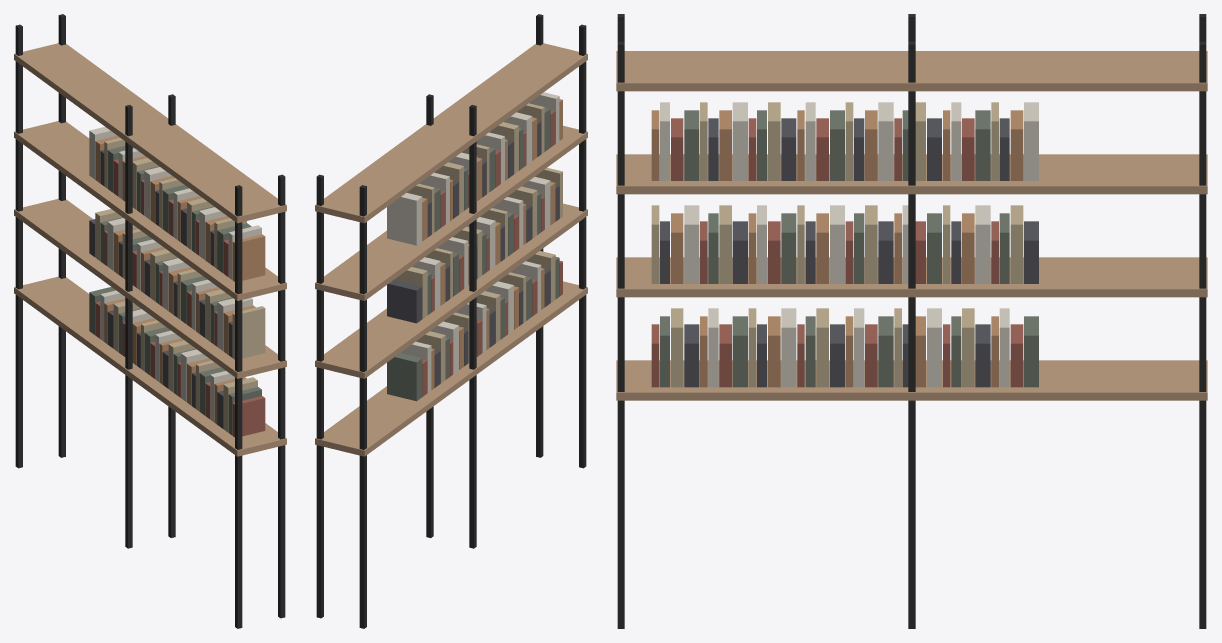
The model's file is SM_Shelving_Study.fbx.
The picture shows the model from 3 angles, left to right: view 1: azimuth 30°, elevation 25°; view 2: azimuth 150°, elevation 25°; view 3: azimuth 270°, elevation 25°; orthographic projection. The views are drawn at different scales.
Parts seen in each view (by area): view 1: SM_Shelving_Study; view 2: SM_Shelving_Study; view 3: SM_Shelving_Study.
Boxes of the visible parts, box(x1,y1,x2,y2) form: SM_Shelving_Study: box(14, 14, 286, 628); SM_Shelving_Study: box(315, 14, 587, 628); SM_Shelving_Study: box(616, 14, 1207, 628).
Bounding box in the file's own units: 30 × 255 × 234.
